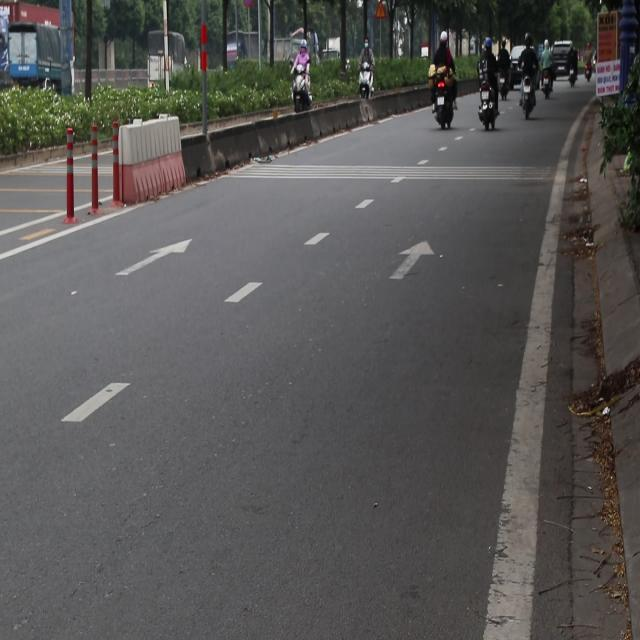car: (509, 38, 535, 78), (550, 42, 576, 80)
motorbike: (424, 80, 462, 124), (289, 70, 318, 121), (477, 83, 502, 138), (356, 56, 379, 98), (521, 84, 532, 115)
truck: (0, 21, 78, 112), (136, 36, 188, 103)
